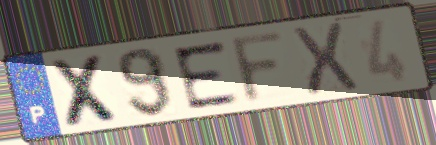4: (363, 15, 412, 86)
9: (115, 46, 175, 120)
E: (169, 38, 244, 113)
F: (228, 27, 289, 108)
X: (46, 52, 127, 130), (287, 20, 362, 101)
